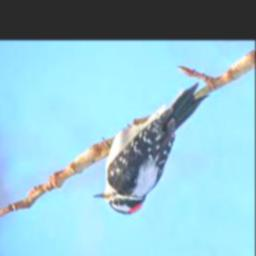Woodpecker: (93, 83, 209, 215)
